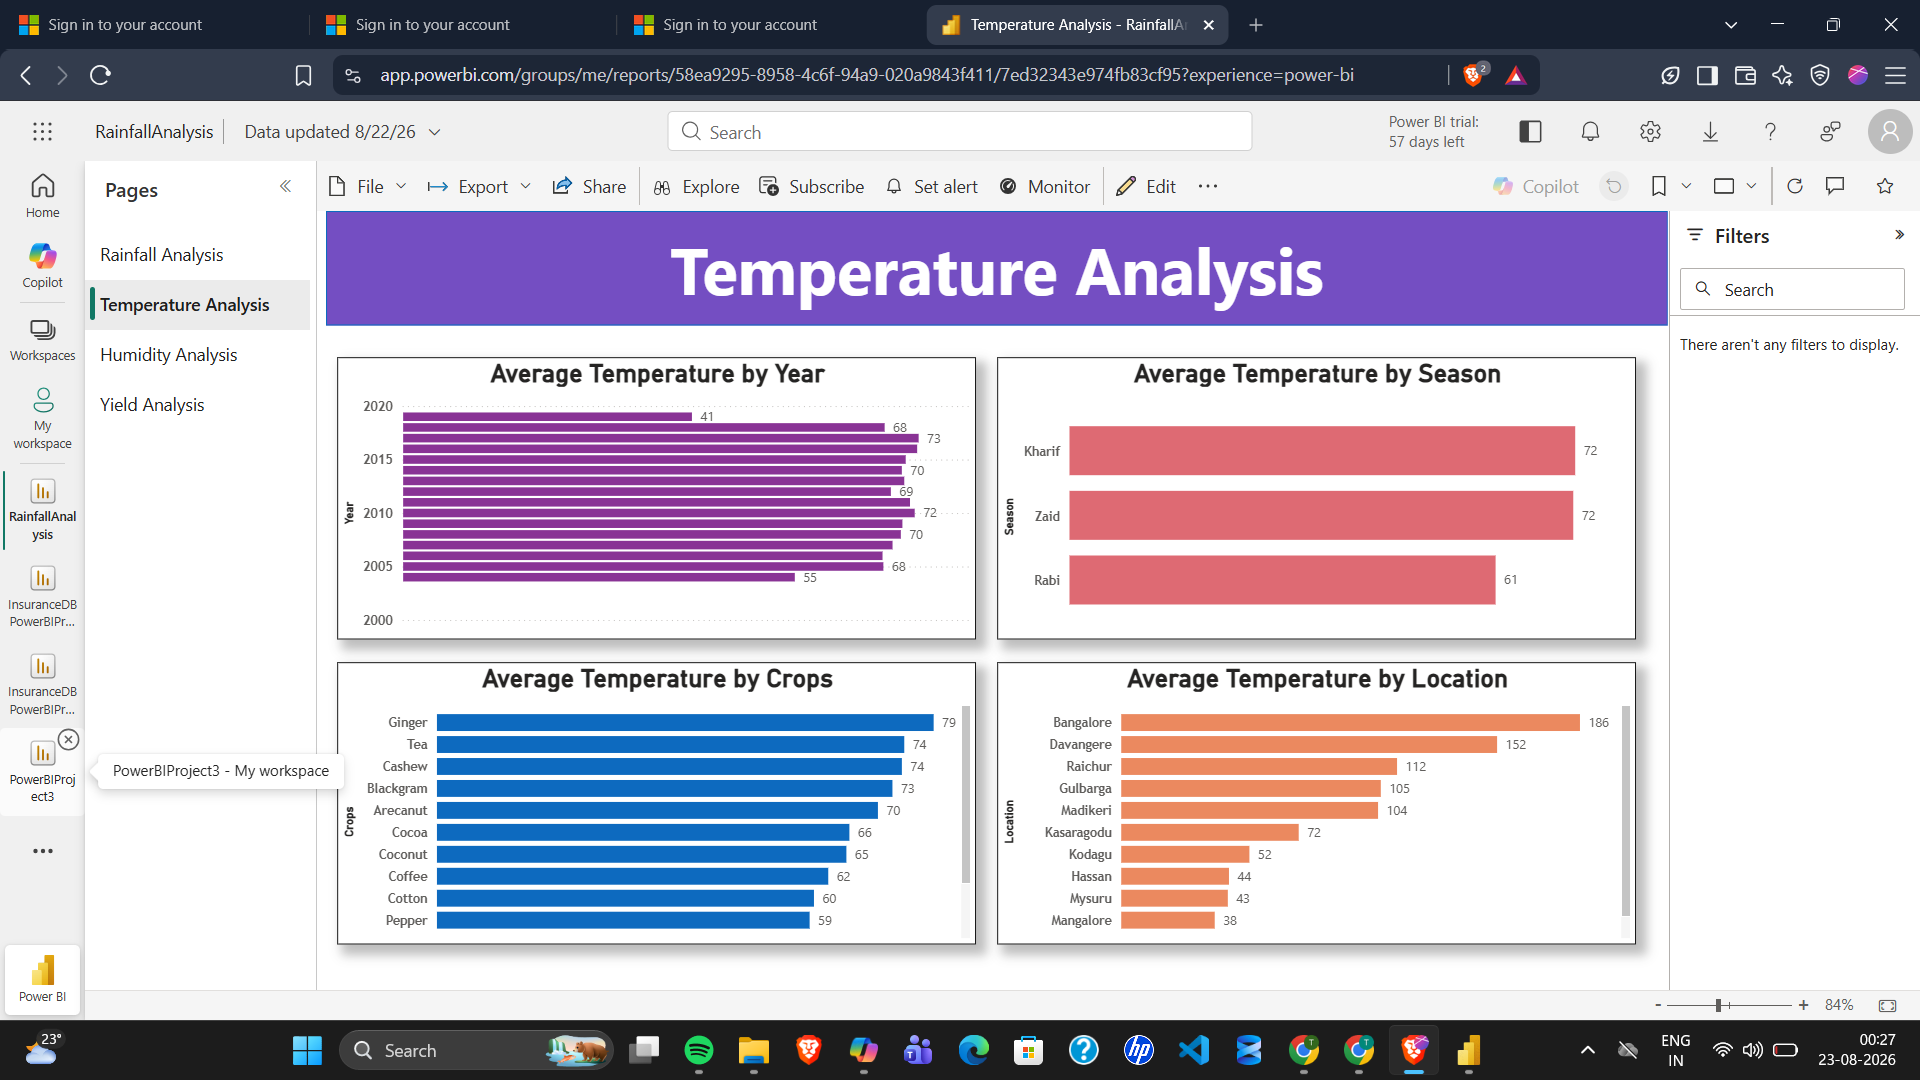

Layout of this report page (visuals, bound fields, positions):
{"tool":"powerbi","page":{"name":"Temperature Analysis","canvas":[1280,720],"ordinal":1},"visuals":[{"type":"shape","box":[9.6,0,1270.7,108.4],"z":0},{"type":"barChart","fields":{"Y":["Avg(AGRICULTURE.TEMPERATURE)"],"Category":["AGRICULTURE.YEAR"]},"box":[20.6,138.6,605.1,267.6],"z":1000},{"type":"barChart","fields":{"Category":["AGRICULTURE.SEASON"],"Y":["Avg(AGRICULTURE.TEMPERATURE)"]},"box":[644.9,138.6,605.1,267.6],"z":2000},{"type":"barChart","fields":{"Category":["AGRICULTURE.CROPS"],"Y":["Avg(AGRICULTURE.TEMPERATURE)"]},"box":[20.6,426.8,605.1,267.6],"z":3000},{"type":"barChart","fields":{"Category":["AGRICULTURE.LOCATION"],"Y":["Avg(AGRICULTURE.TEMPERATURE)"]},"box":[644.9,426.8,605.1,267.6],"z":4000}]}

Visuals, with their boxes on the page's 1280x720 design canvas (x1, y1, x2, y2). These are canvas units, not pixel positions in the 1920x1080 screenshot, which may show the page scaled, cropped or inside an application window:
shape: pyautogui.locateOnScreen(10, 0, 1280, 108)
barChart - Avg(AGRICULTURE.TEMPERATURE) x AGRICULTURE.YEAR: pyautogui.locateOnScreen(21, 139, 626, 406)
barChart - AGRICULTURE.SEASON x Avg(AGRICULTURE.TEMPERATURE): pyautogui.locateOnScreen(645, 139, 1250, 406)
barChart - AGRICULTURE.CROPS x Avg(AGRICULTURE.TEMPERATURE): pyautogui.locateOnScreen(21, 427, 626, 694)
barChart - AGRICULTURE.LOCATION x Avg(AGRICULTURE.TEMPERATURE): pyautogui.locateOnScreen(645, 427, 1250, 694)
